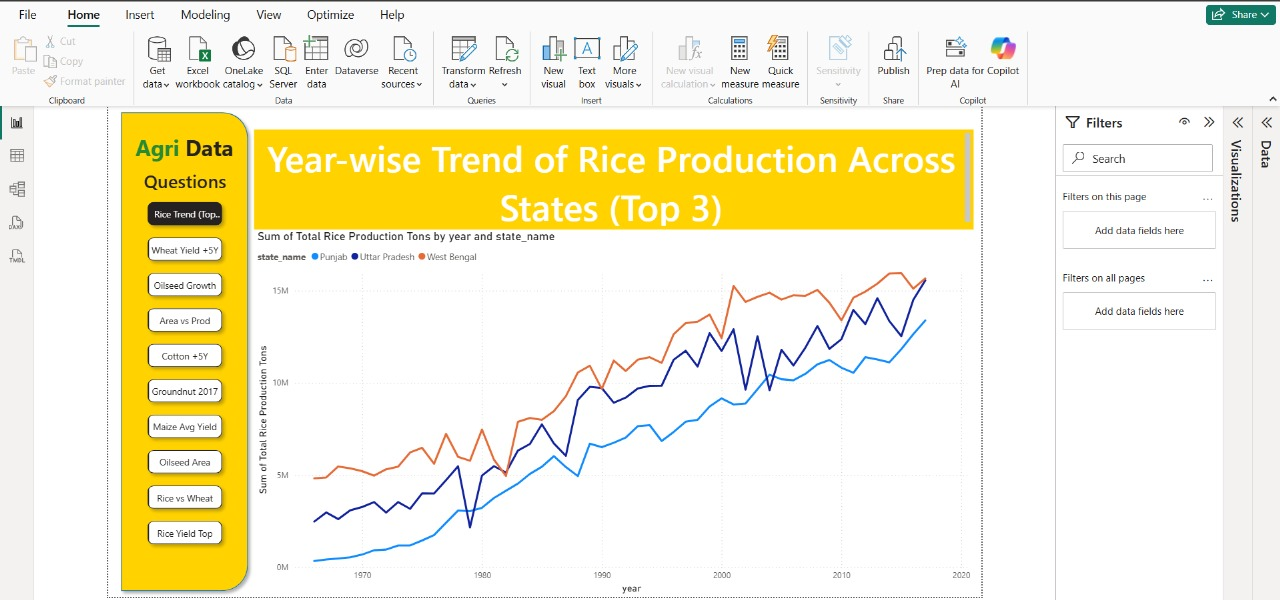

This screenshot's page, from the dashboard's own definition file:
{"tool":"powerbi","page":{"name":"Rice Trend (Top 3)","canvas":[1280,720],"ordinal":1},"visuals":[{"type":"shape","box":[9.6,0,204,720.4],"z":0},{"type":"textbox","box":[28.8,34.3,164.7,57.6],"z":1000},{"type":"pageNavigator","title":"Questions","box":[49.4,91.9,127.6,564],"z":2000},{"type":"textbox","box":[214.1,34.3,1055.2,146.8],"z":3000},{"type":"lineChart","fields":{"Category":["Q1_RiceTrend_Data.year"],"Y":["Sum(Q1_RiceTrend_Data.Total Rice Production Tons)"],"Series":["Q1_RiceTrend_Data.state_name"]},"box":[214.1,181.1,1055.2,539.3],"z":4000}]}

Visuals, with their boxes on the page's 1280x720 design canvas (x1, y1, x2, y2). These are canvas units, not pixel positions in the 1280x600 screenshot, which may show the page scaled, cropped or inside an application window:
shape: x1=10 y1=0 x2=214 y2=720
textbox: x1=29 y1=34 x2=194 y2=92
"Questions" pageNavigator: x1=49 y1=92 x2=177 y2=656
textbox: x1=214 y1=34 x2=1269 y2=181
lineChart - Q1_RiceTrend_Data.year x Sum(Q1_RiceTrend_Data.Total Rice Production Tons): x1=214 y1=181 x2=1269 y2=720
